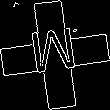M_S: (28, 27, 82, 83)
